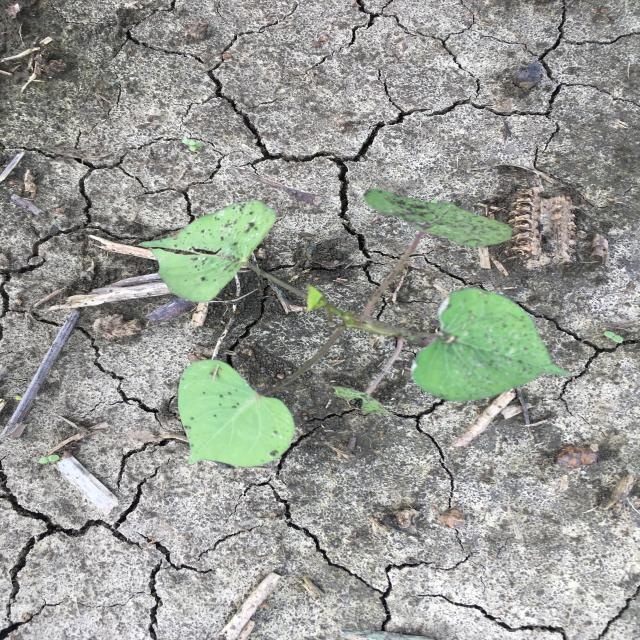MorningGlory: (136, 187, 574, 471)
